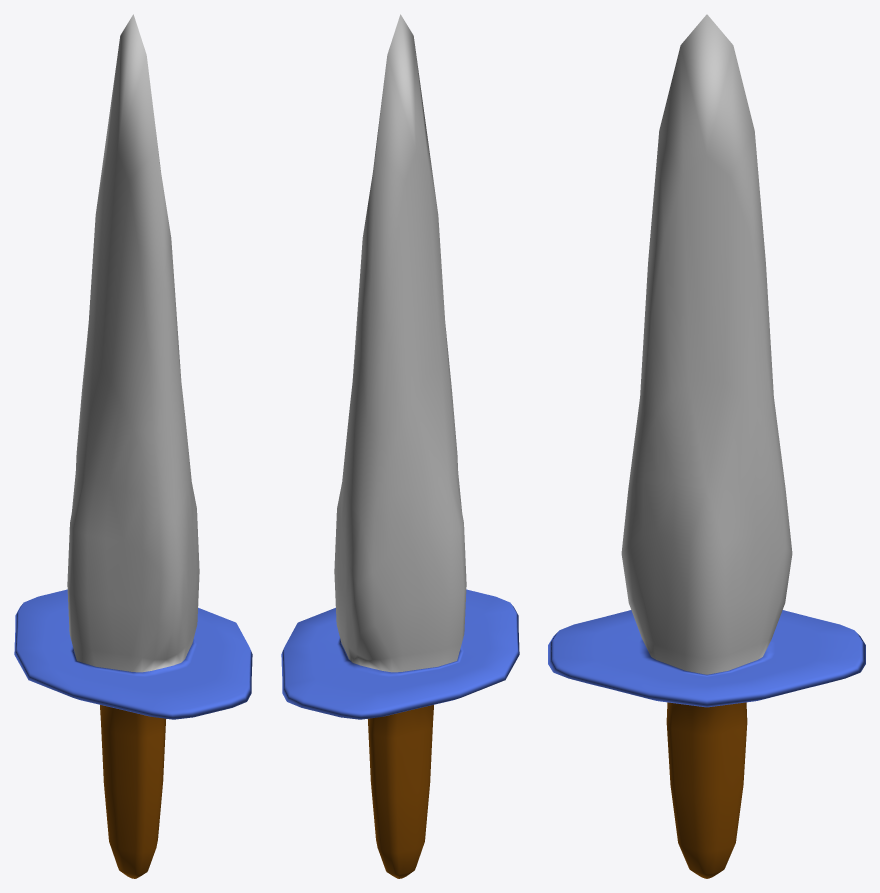
The model's file is sword.fbx.
The picture shows the model from 3 angles, left to right: view 1: azimuth 30°, elevation 25°; view 2: azimuth 150°, elevation 25°; view 3: azimuth 270°, elevation 25°; orthographic projection.
Visible parts, largest first — view 1: pCube1; view 2: pCube1; view 3: pCube1.
Part boxes in pixels (x1=…): pCube1: x1=14, y1=14, x2=252, y2=878; pCube1: x1=281, y1=14, x2=519, y2=878; pCube1: x1=548, y1=14, x2=865, y2=878.
Bounding box in the file's own units: 22.33 × 87.8 × 29.26.
